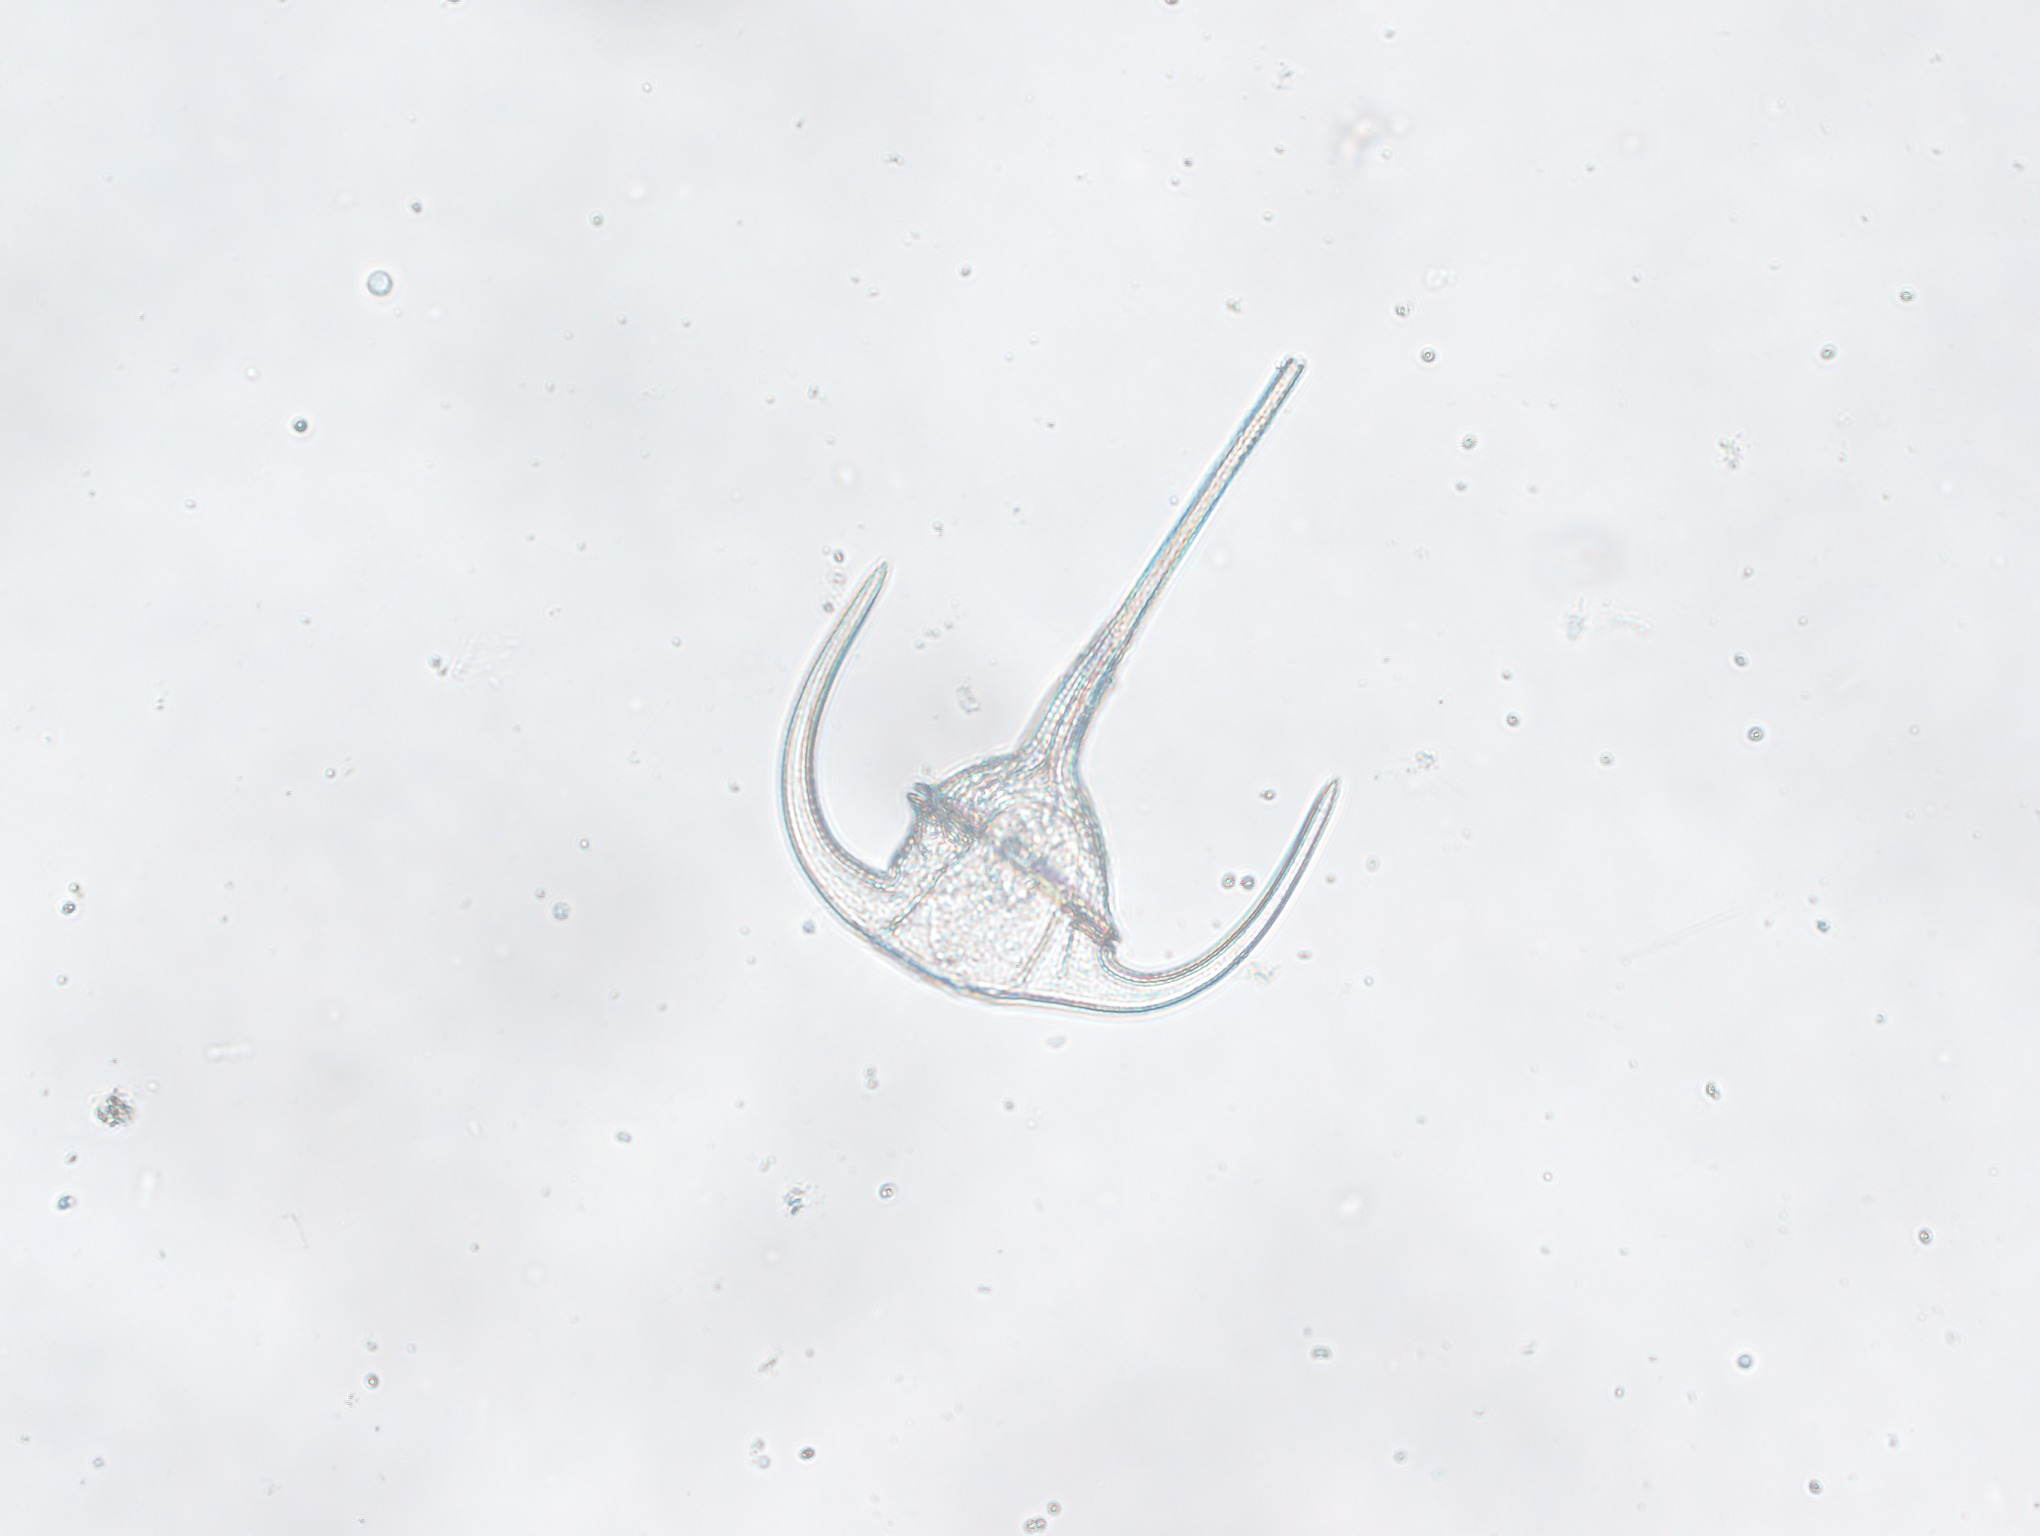ceratium tripos: (769, 355, 1355, 1036)
